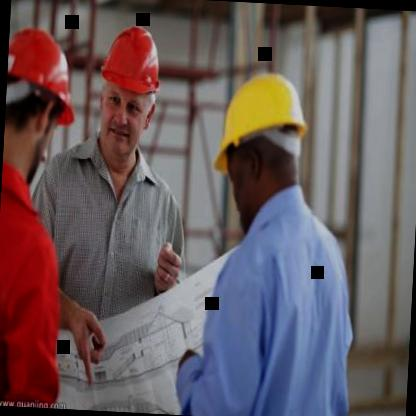helmet: (205, 52, 315, 226), (90, 9, 176, 171), (2, 16, 80, 177)
